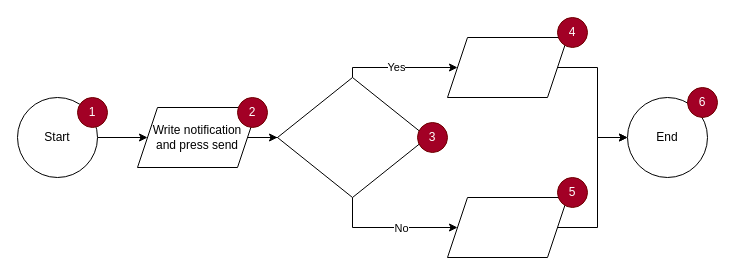
The diagram is 735 pixels wide and 275 high, and some of its shapes have lost their labels. Each missing label, with the centre of its shape:
Show "failure" status: pixel 507 227
Show "success" status: pixel 507 67
Was the message received on the other end?: pixel 352 137
